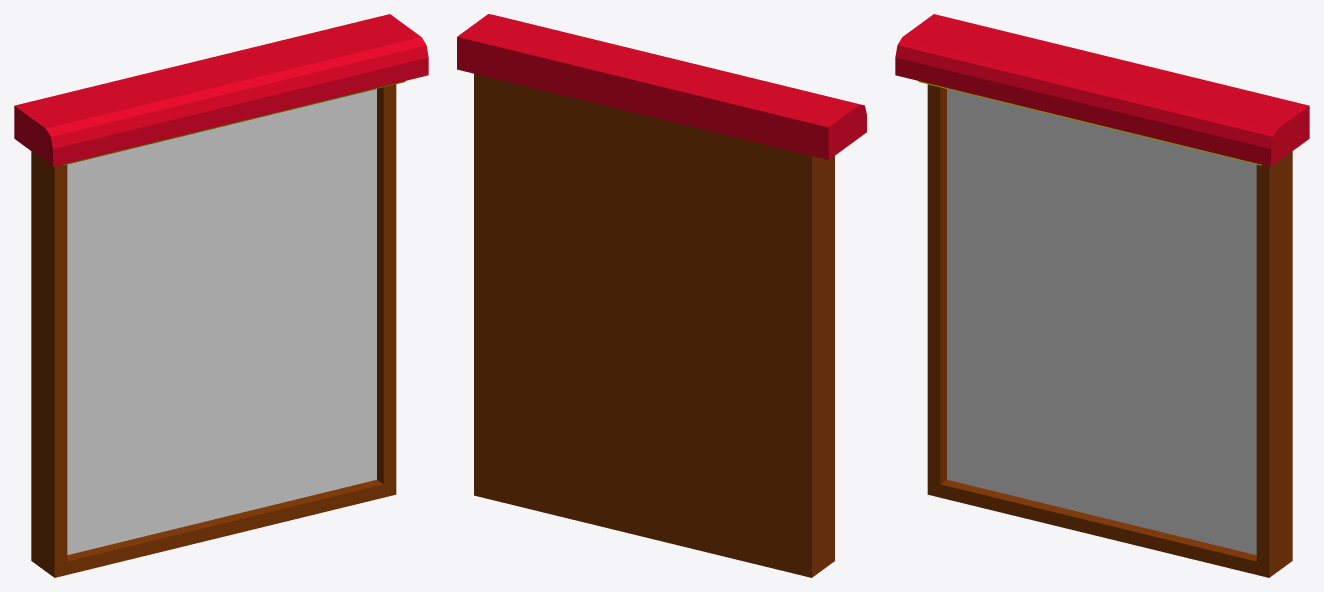
The model's file is poster_sign.fbx.
3 renders of one model, left to right at view 1: azimuth 30°, elevation 25°; view 2: azimuth 150°, elevation 25°; view 3: azimuth 330°, elevation 25°, orthographic.
Parts seen in each view (by area): view 1: Cube; view 2: Cube; view 3: Cube.
Part boxes in pixels (x1,y1,x2,y2): Cube: (14,14,428,577); Cube: (457,14,866,577); Cube: (895,14,1309,577).
Size of the model in its own units: 220 by 257 by 39.15.
